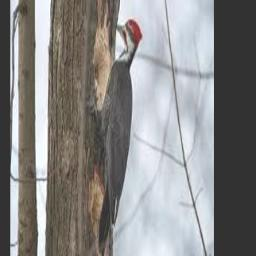Woodpecker: (91, 18, 142, 256)
